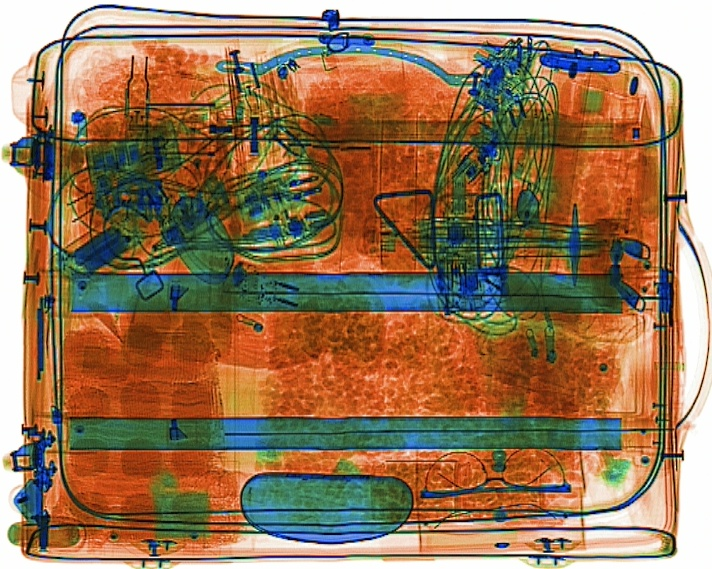powerbank: (44, 210, 147, 291)
